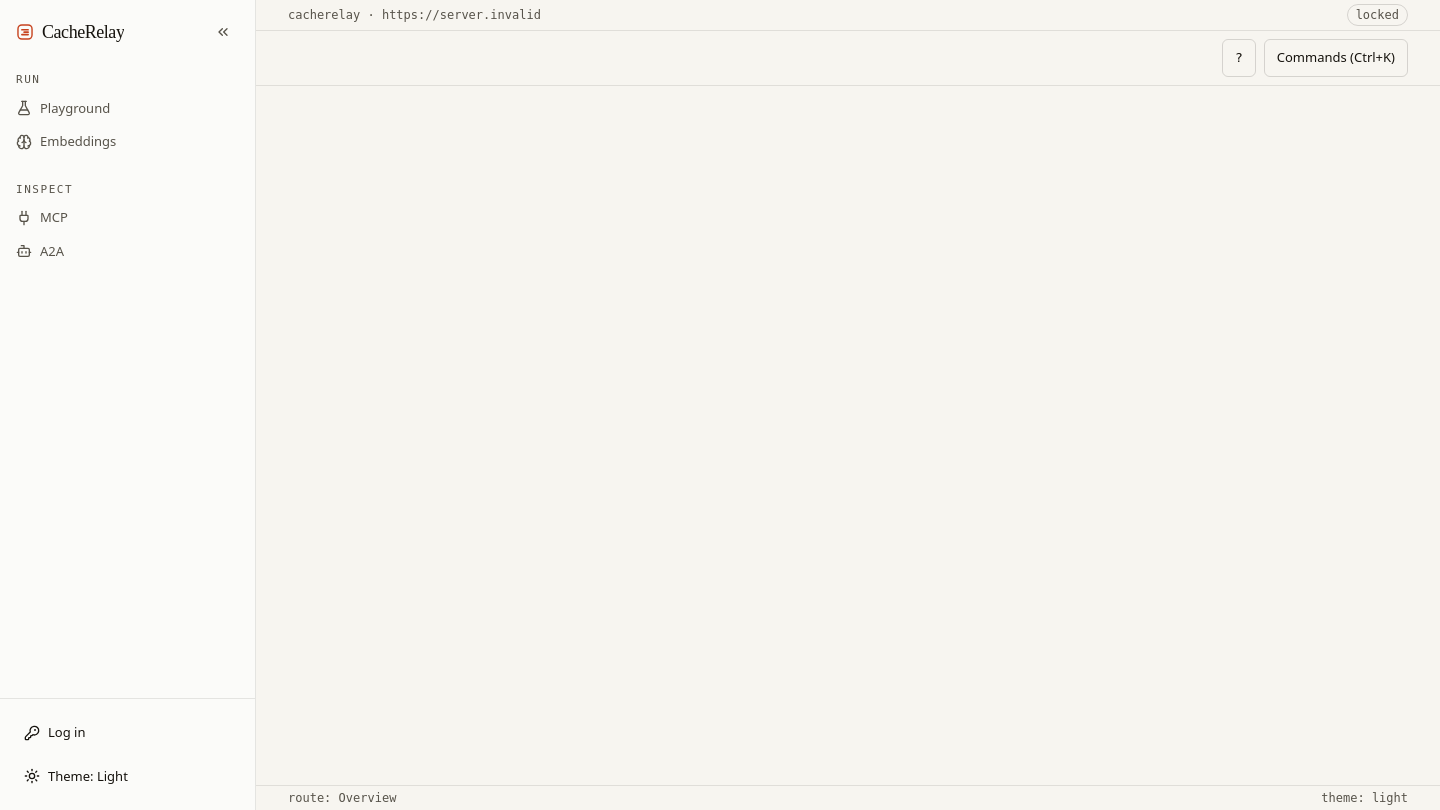
Test: Layout › keeps a session-only sidebar when writes are denied
expect the text "Playground" is shown: met, box [40,98,110,118]
What coordinates should you click on to do the following:
click the button named "collapse sidebar"
I would click on:
 (223, 32)
Its box is [207,16,239,48].
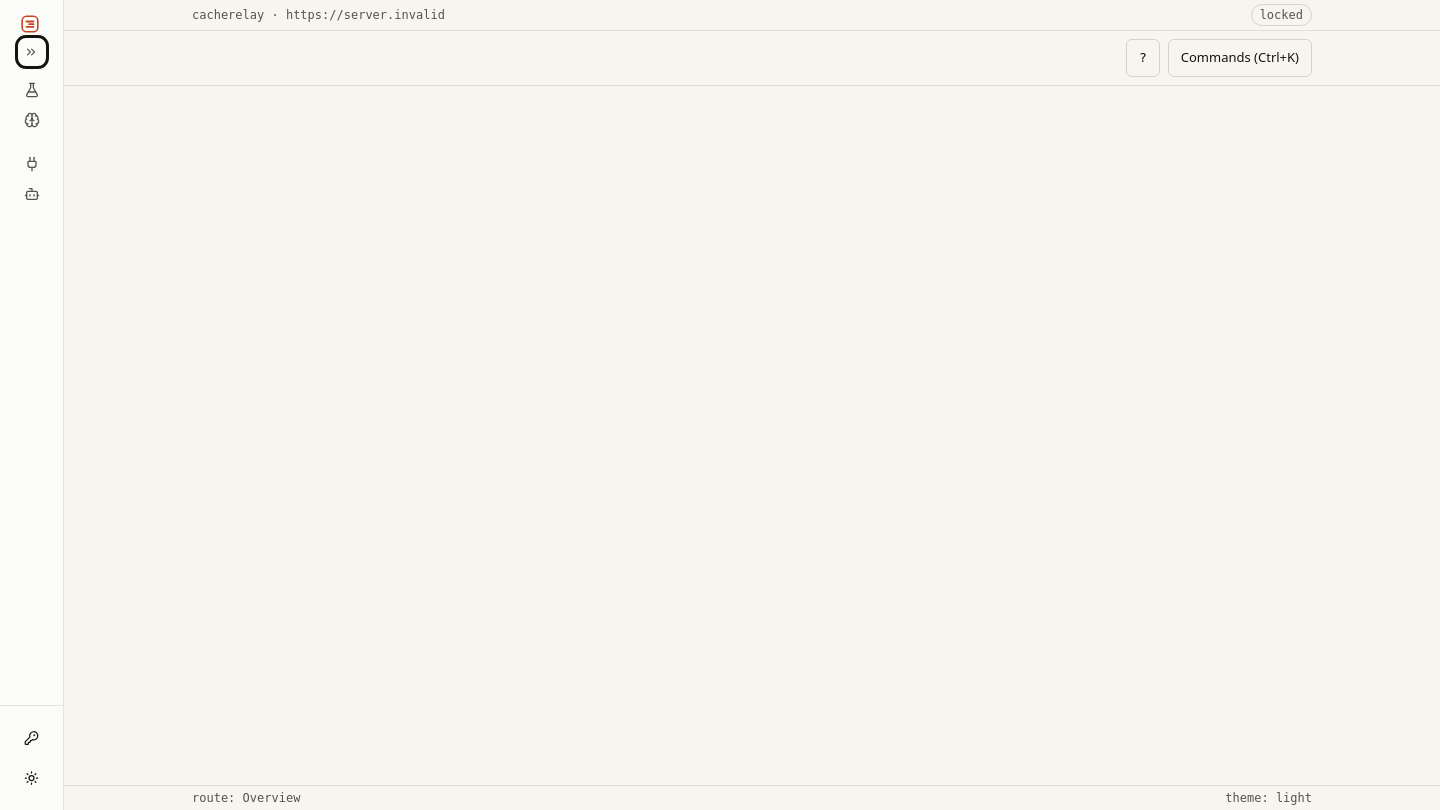
expect the text "Playground" is gone: met
